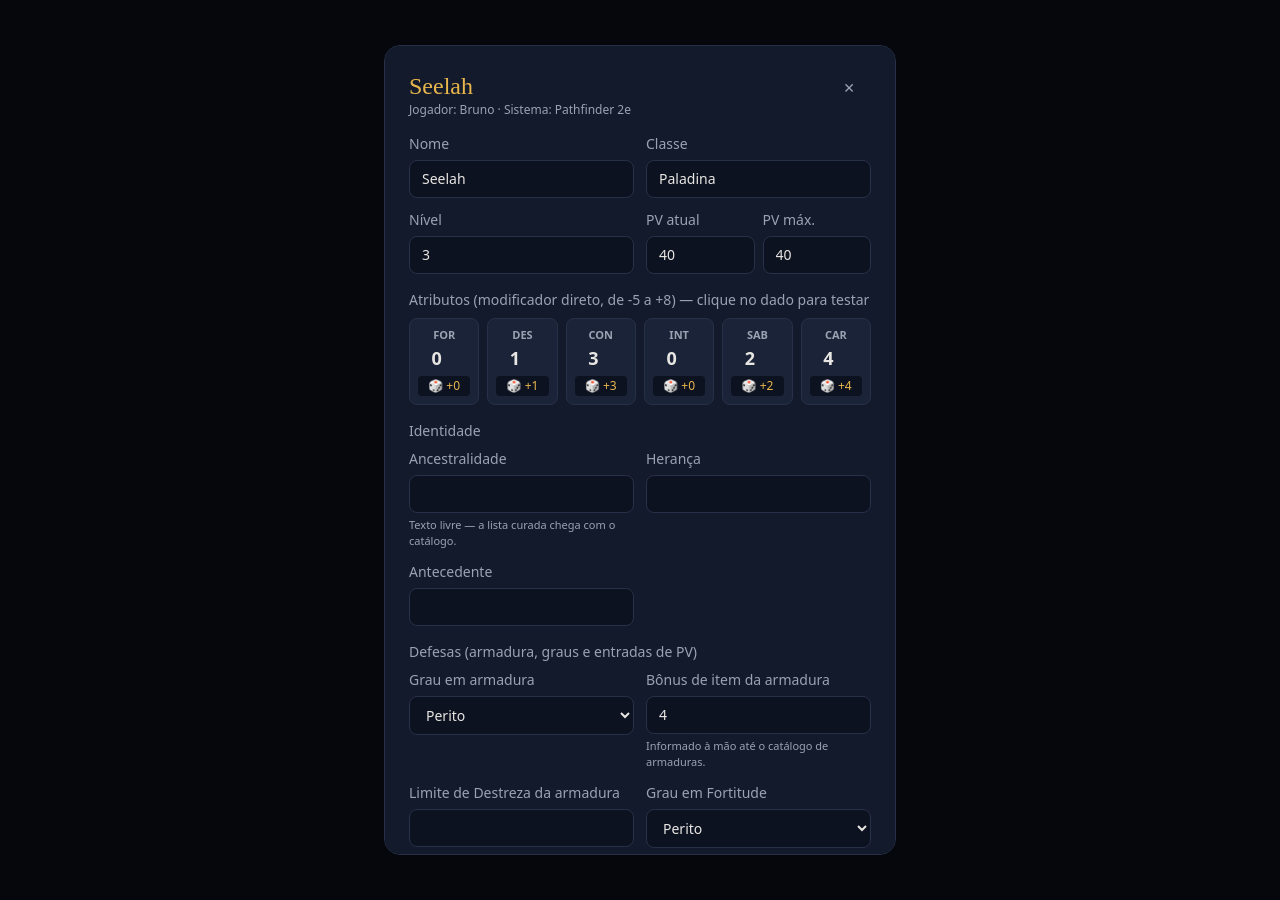
Test: defesas de PF2e na ficha (RV-155) › armadura sem limite informado deixa a Destreza inteira e diz isso em texto
Note: Com o teto informado em +0, a Destreza +1 deixa de entrar: 10 + 7 + 0 + 4.
Type "0" into the number field labelled "Limite de Destreza da armadura" at (522, 828), box [409, 808, 634, 846]
(page scrolled)
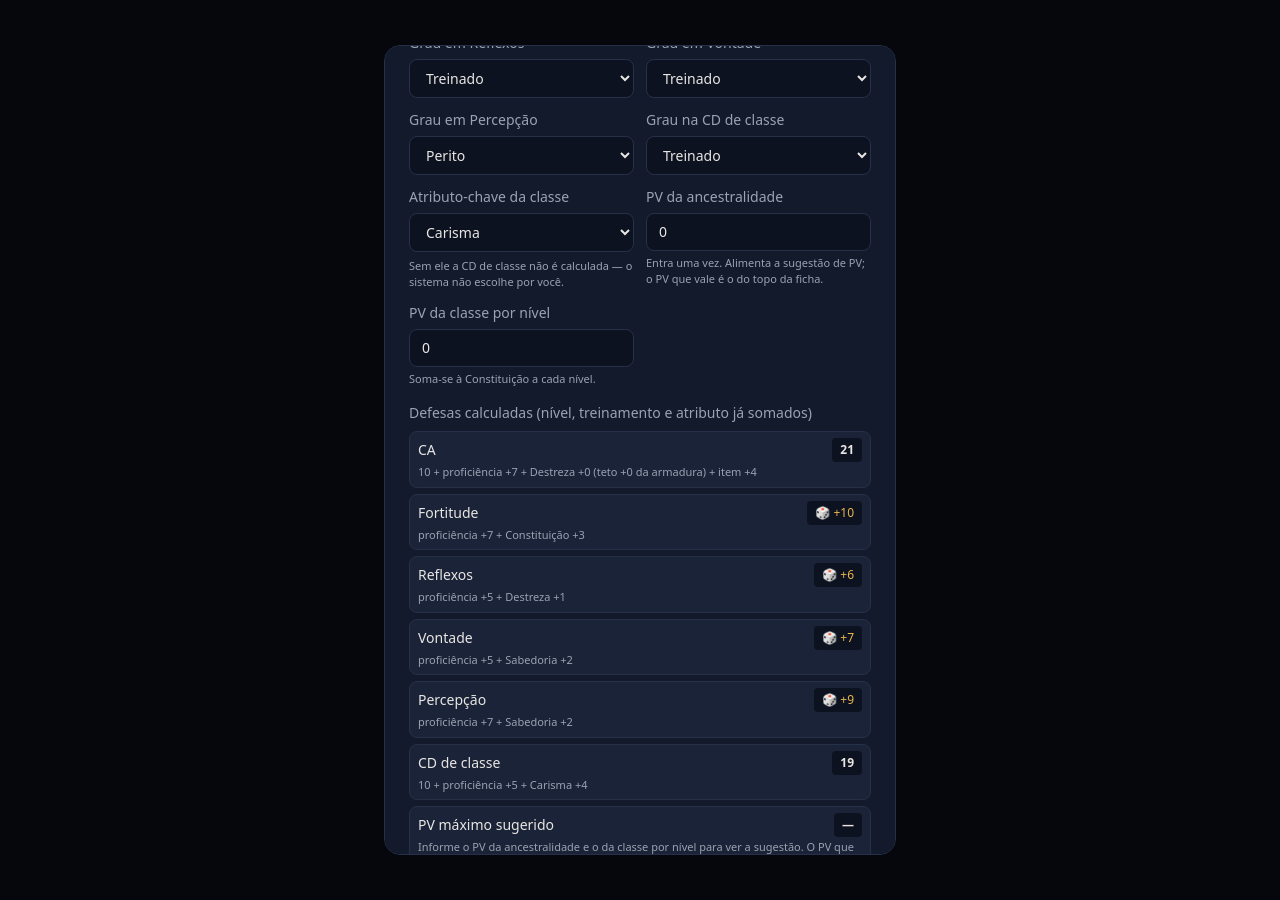
Result: the list item "CA" is shown at [418, 440, 436, 459]
Result: the text "21" is shown at [832, 438, 862, 462]
